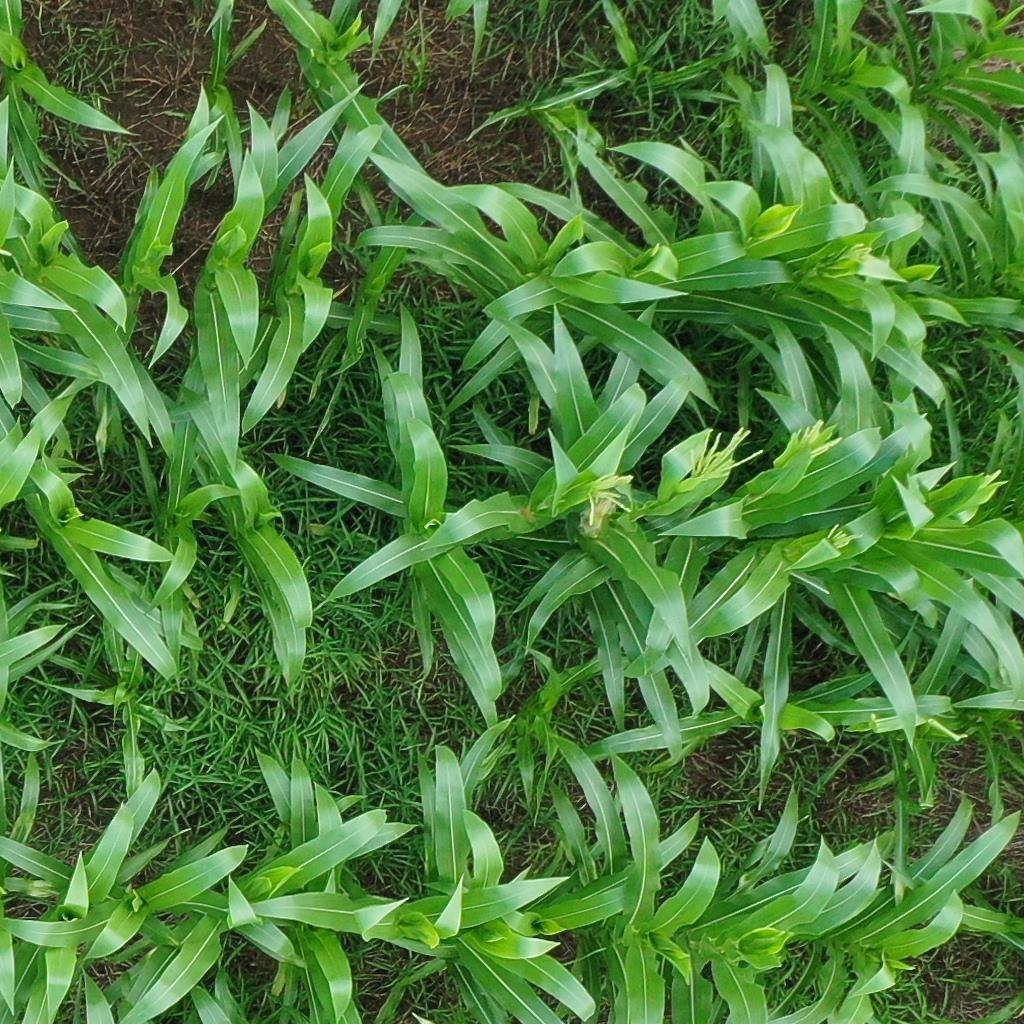Tassel: (684, 425, 761, 483), (577, 468, 633, 523), (787, 414, 839, 465), (820, 518, 862, 557), (844, 242, 872, 268)
